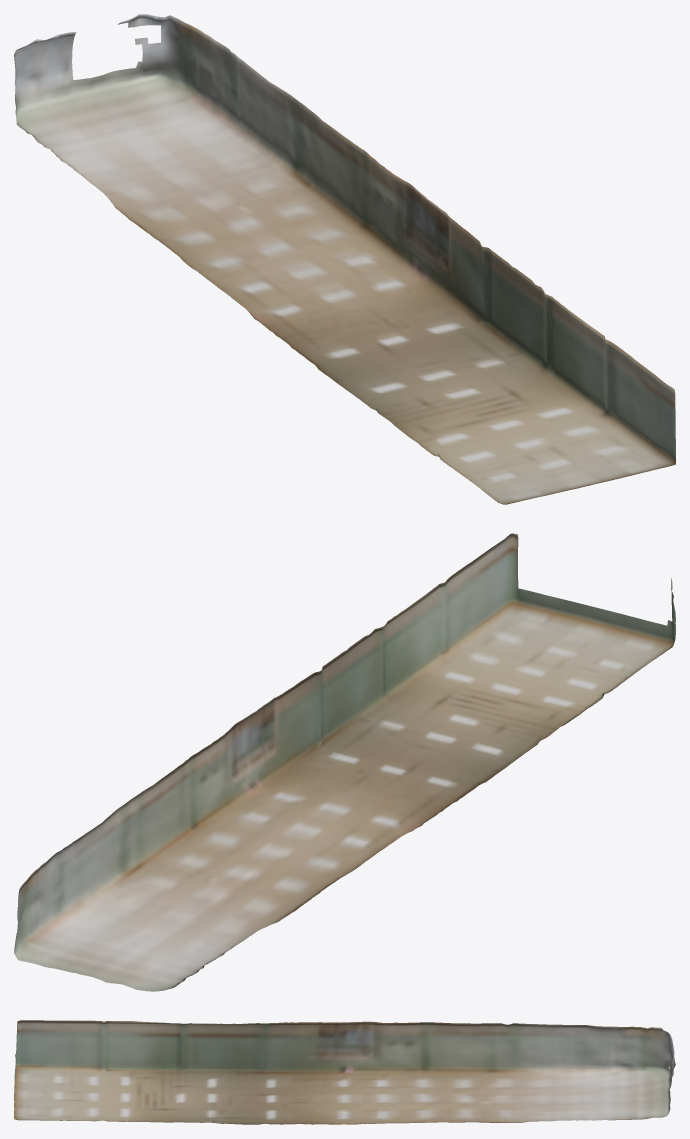
File: collider.glb
3 views of the same model, one above another, from view 1: azimuth 30°, elevation 25°; view 2: azimuth 150°, elevation 25°; view 3: azimuth 270°, elevation 25° (orthographic). The views are drawn at different scales.
Visible parts, largest first — view 1: world; view 2: world; view 3: world.
Boxes of the visible parts, bbox=[...] form: world: bbox=[14, 14, 675, 504]; world: bbox=[14, 533, 675, 991]; world: bbox=[14, 1020, 675, 1124].
Bounding box in the file's own units: 4.11 × 1.76 × 19.72.
